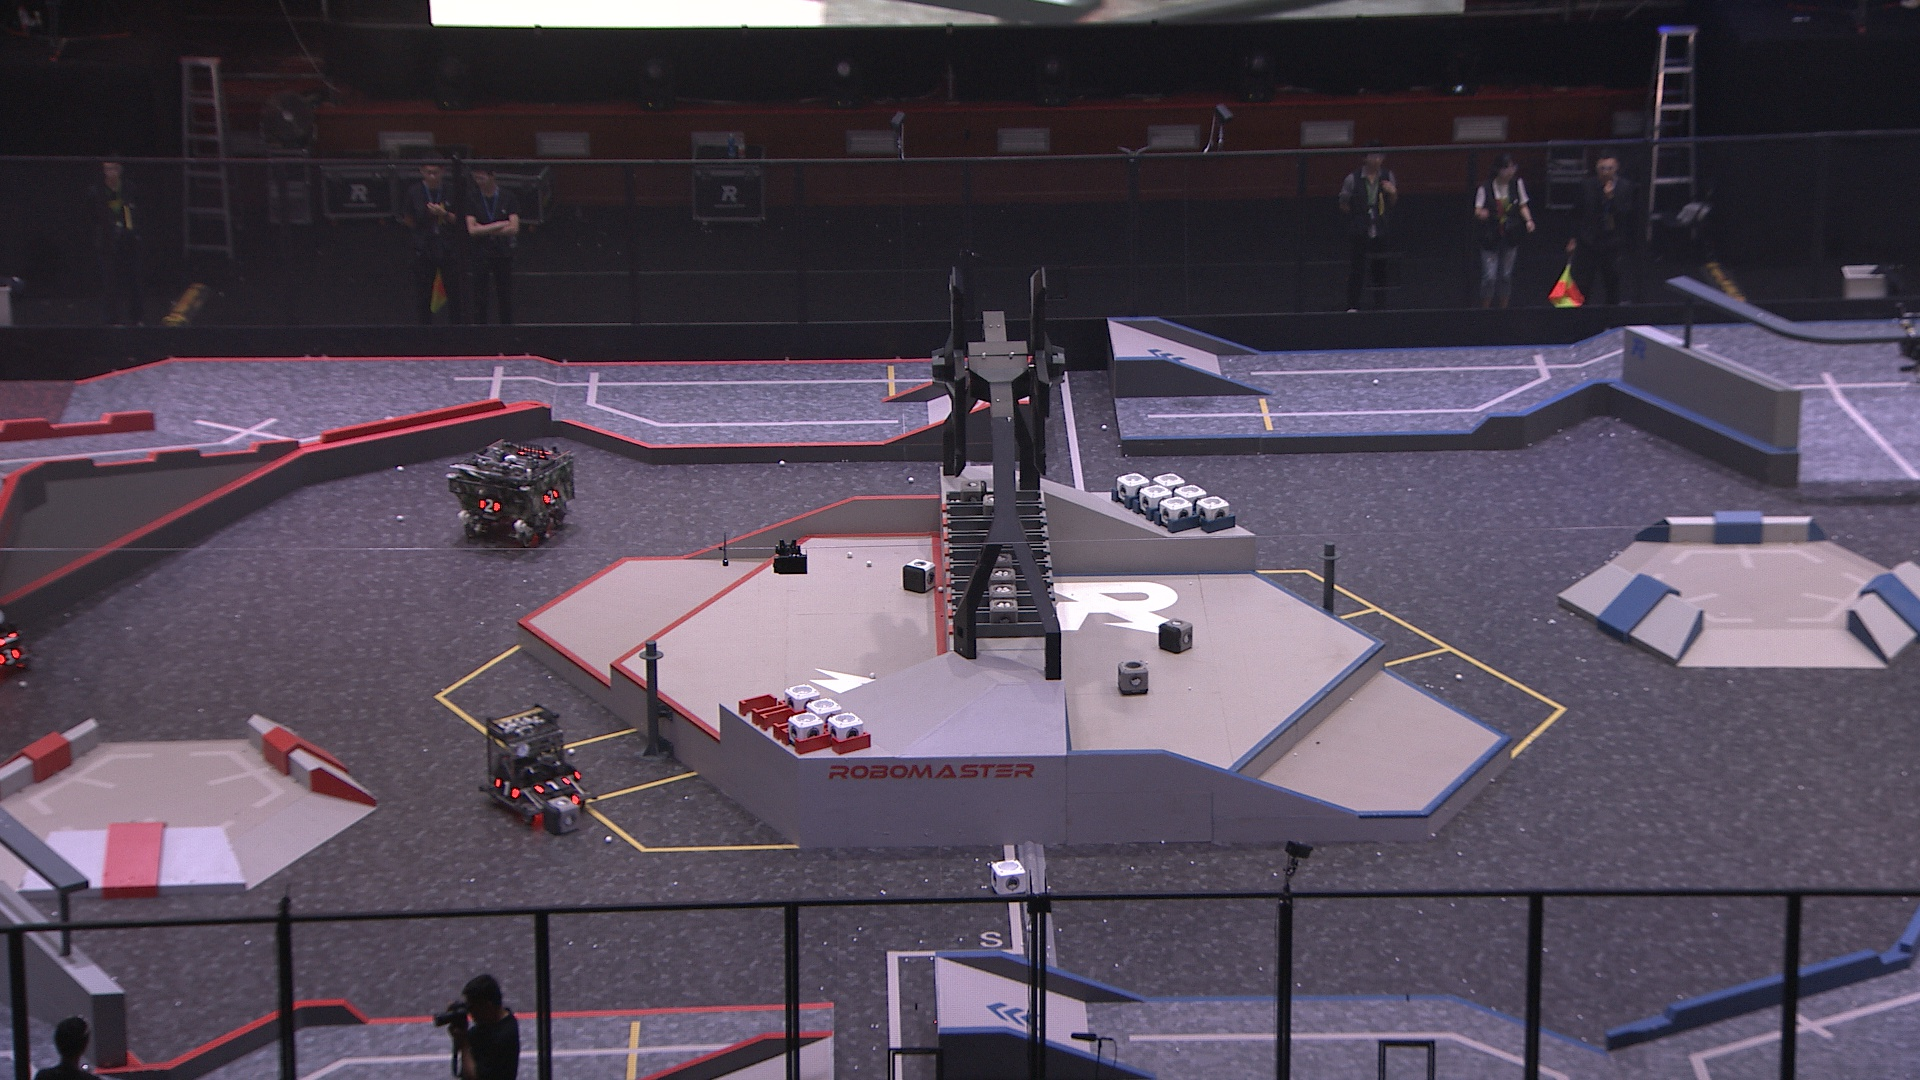armor: (534, 777, 571, 794), (495, 779, 520, 800), (477, 495, 502, 514), (542, 488, 560, 505)
car: (443, 436, 583, 549), (477, 702, 596, 825)
watcher: (1888, 301, 1920, 384)
